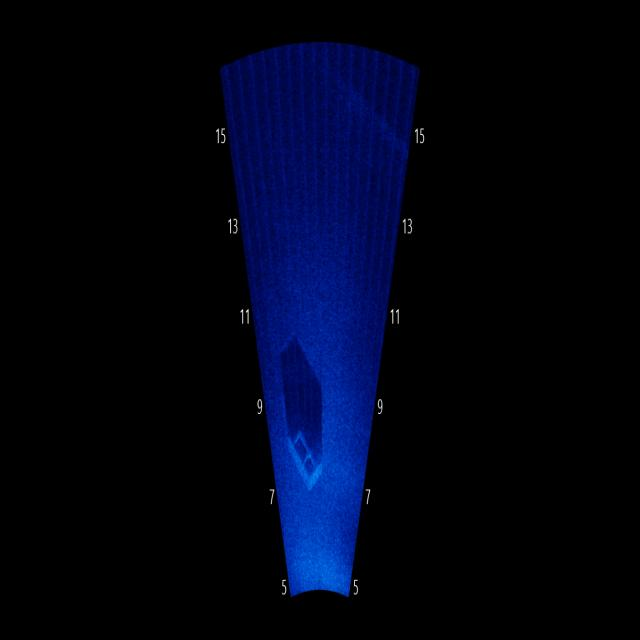square: (285, 407, 331, 512)
